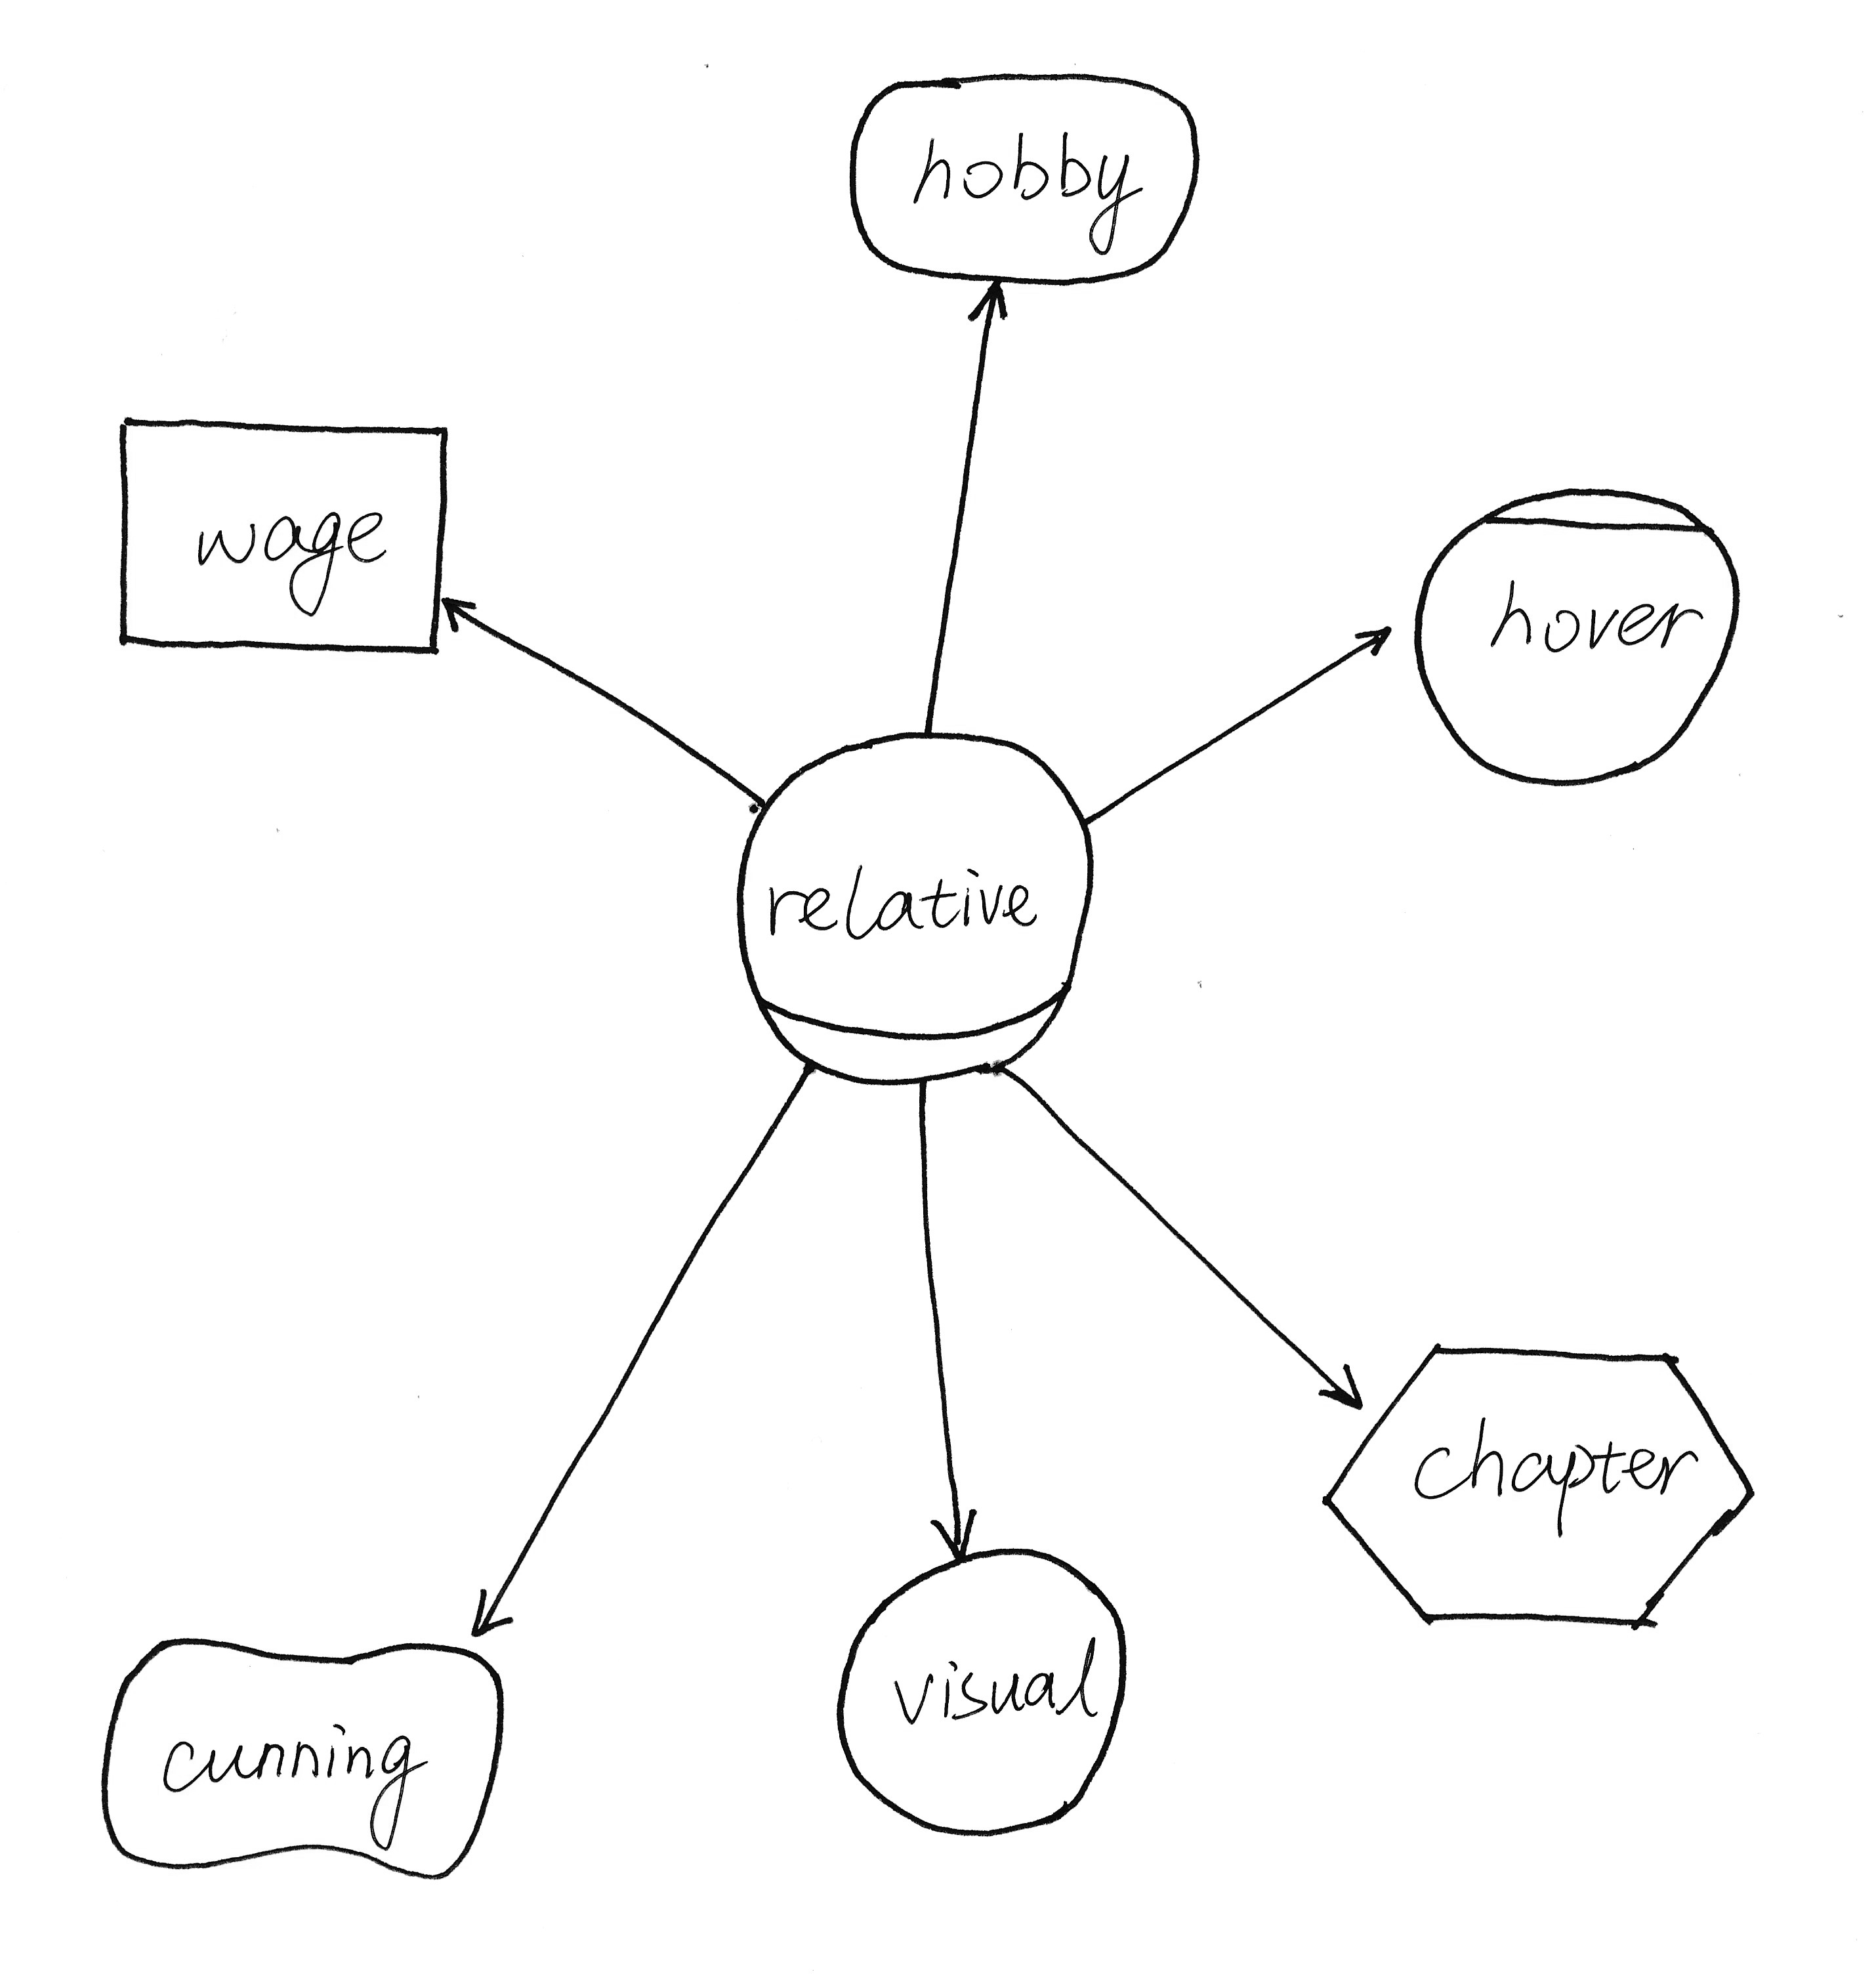actor: (816, 1530, 1154, 1854)
agent: (1392, 469, 1762, 811)
arrow: (451, 1576, 537, 1669), (1298, 1352, 1393, 1429), (914, 1500, 1001, 1577), (956, 257, 1029, 347), (421, 575, 495, 659), (1333, 606, 1413, 672)
goal: (830, 51, 1222, 301)
quality: (83, 1618, 523, 1896)
resource: (99, 388, 472, 684)
role: (715, 707, 1113, 1103)
task: (1307, 1325, 1783, 1648)
